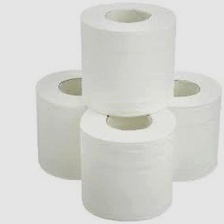tissue: (72, 98, 184, 224), (74, 0, 181, 121), (135, 65, 223, 187), (31, 63, 118, 185)
